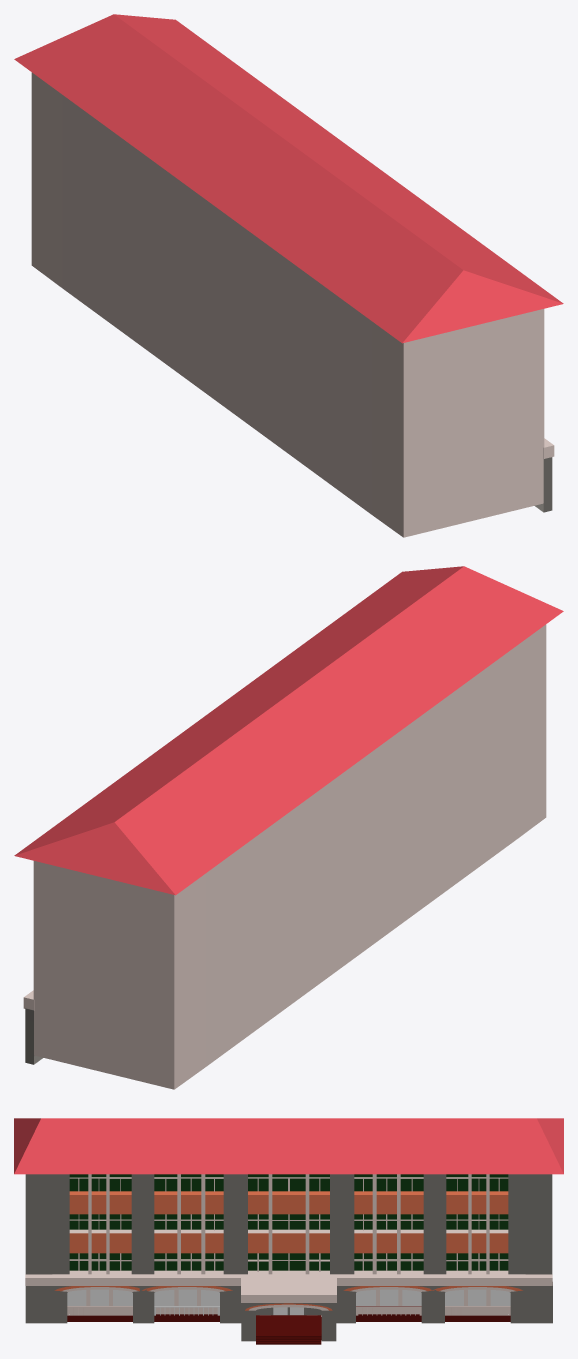
File: CBAA.fbx
The picture shows the model from 3 angles, top to bottom: view 1: azimuth 30°, elevation 25°; view 2: azimuth 150°, elevation 25°; view 3: azimuth 270°, elevation 25°; orthographic projection. The views are drawn at different scales.
Parts seen in each view (by area): view 1: Cube; view 2: Cube; view 3: Cube, Cube.005, Cube.007, Cube.017, Cube.006, Cube.002, Cube.004, Cube.008, Cube.010, Cube.009, Cube.011, Cube.014 (+4 smaller).
Boxes of the visible parts, bbox=[...] form: Cube: bbox=[14, 14, 563, 537]; Cube: bbox=[14, 566, 563, 1089]; Cube: bbox=[14, 1118, 563, 1314]; Cube.005: bbox=[25, 1286, 147, 1323]; Cube.007: bbox=[430, 1282, 552, 1323]; Cube.017: bbox=[256, 1315, 321, 1344]; Cube.006: bbox=[336, 1286, 436, 1323]; Cube.002: bbox=[241, 1303, 336, 1341]; Cube.004: bbox=[139, 1286, 241, 1323]; Cube.008: bbox=[67, 1289, 132, 1305]; Cube.010: bbox=[356, 1289, 421, 1305]; Cube.009: bbox=[154, 1289, 219, 1305]; Cube.011: bbox=[445, 1289, 510, 1305]; Cube.014: bbox=[356, 1306, 421, 1321].
Bounding box in the file's own units: 4078 × 4474 × 12505.
